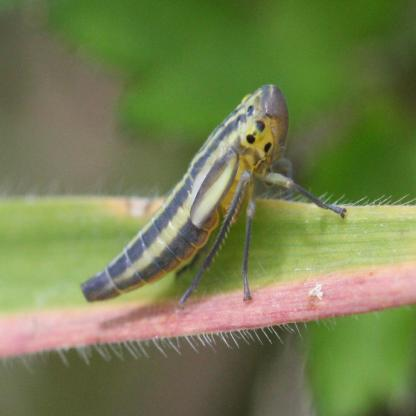Green-Leafhopper: (74, 81, 344, 320)
